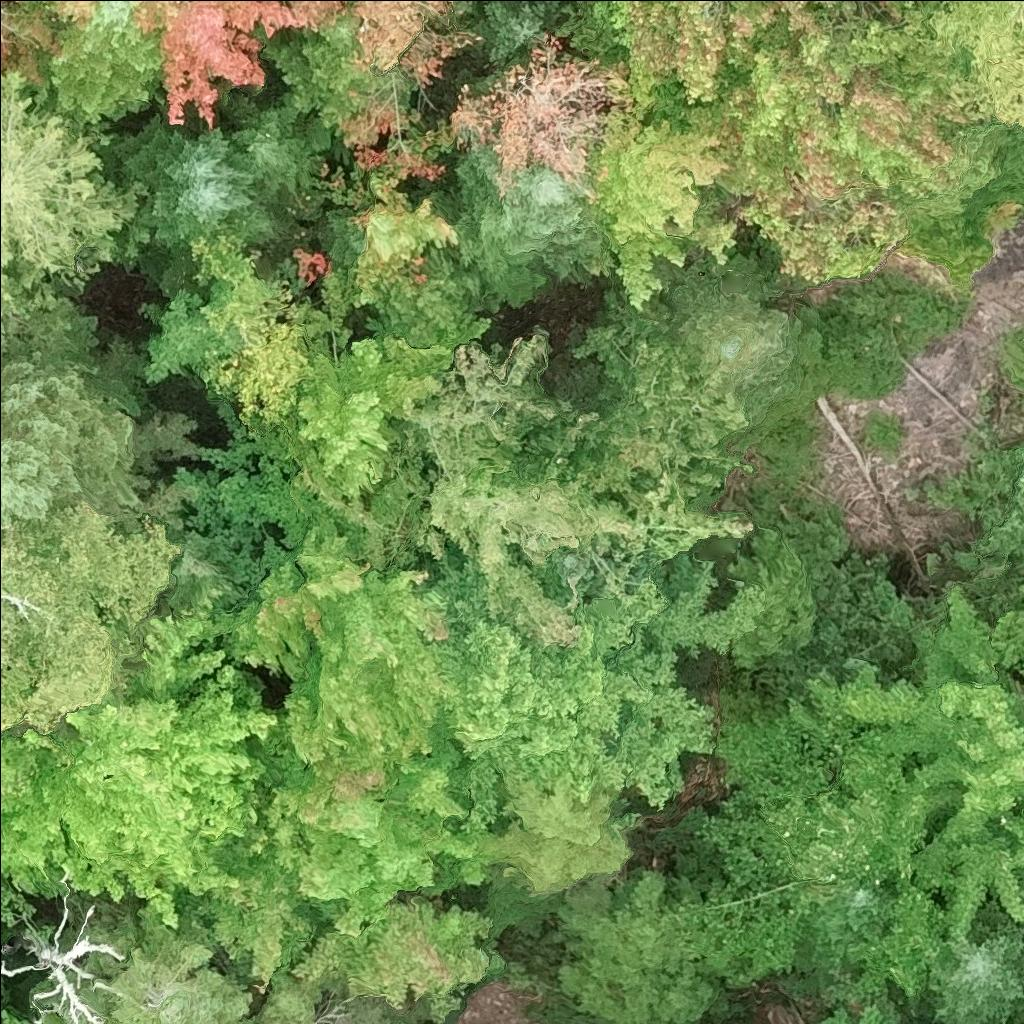crown: (671, 585, 1023, 1000), (419, 323, 754, 642), (650, 0, 1001, 280), (0, 619, 273, 927), (531, 562, 765, 810), (242, 336, 465, 571), (247, 559, 465, 766), (251, 759, 480, 936), (0, 511, 175, 735), (583, 99, 744, 314), (0, 74, 129, 329), (452, 38, 627, 205), (0, 339, 143, 532), (586, 0, 834, 107), (454, 142, 611, 308), (128, 0, 323, 129), (118, 118, 280, 250), (565, 874, 708, 1023), (300, 899, 496, 1004), (505, 779, 628, 899), (0, 909, 127, 1023), (55, 0, 169, 122), (215, 293, 310, 434), (932, 890, 1023, 1023), (931, 0, 1023, 128), (109, 945, 255, 1023), (682, 297, 791, 397), (361, 197, 459, 306), (359, 0, 478, 87), (239, 111, 329, 204), (803, 879, 898, 959), (483, 0, 565, 69), (0, 0, 45, 65), (328, 209, 370, 272), (262, 981, 315, 1023), (993, 125, 1023, 198), (31, 0, 99, 27), (287, 0, 349, 20)
